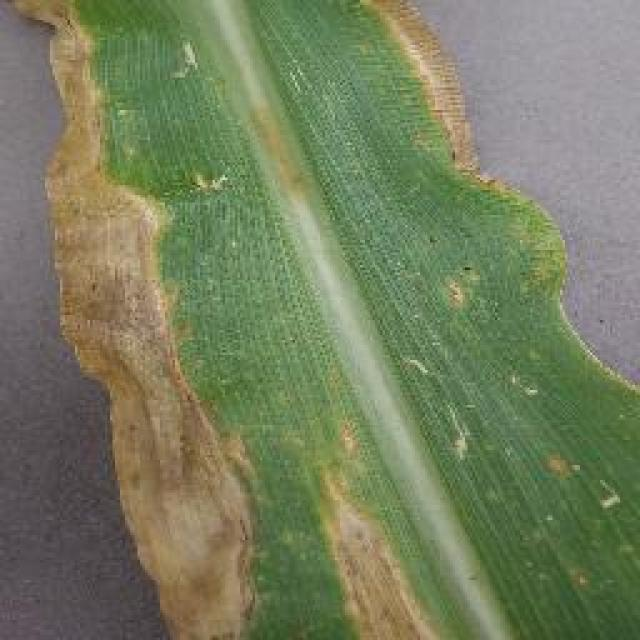Corn___Northern_Leaf_Blight: (8, 0, 500, 640)
